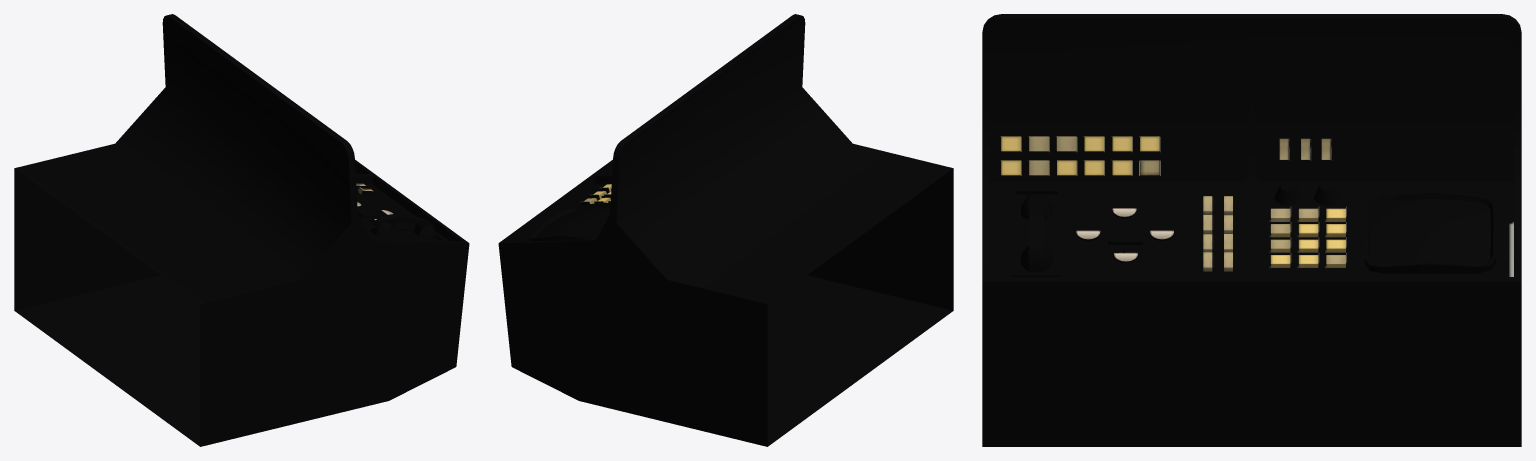
File: props_spytech_control_room_console01.glb
3 views of the same model, side by side, from view 1: azimuth 30°, elevation 25°; view 2: azimuth 150°, elevation 25°; view 3: azimuth 270°, elevation 25° (orthographic). The views are drawn at different scales.
Parts seen in each view (by area): view 1: models/props_spytech/control_room_console01; view 2: models/props_spytech/control_room_console01; view 3: models/props_spytech/control_room_console01.
Part boxes in pixels (<box>): models/props_spytech/control_room_console01: <box>14,14,469,446</box>; models/props_spytech/control_room_console01: <box>498,14,953,446</box>; models/props_spytech/control_room_console01: <box>982,14,1521,446</box>.
Size of the model in its own units: 66.86 by 62.5 by 80.
1 material, 1 textured.
